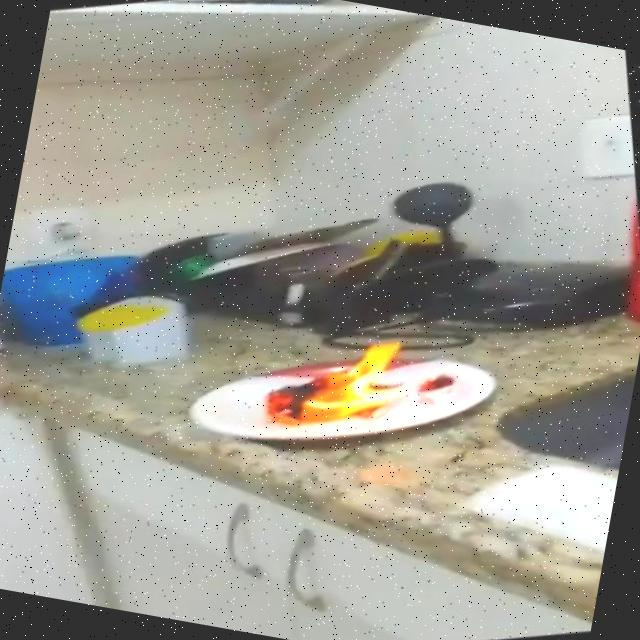fire: (248, 312, 425, 452)
